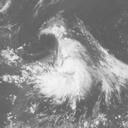cyclone: (35, 49, 89, 103)
